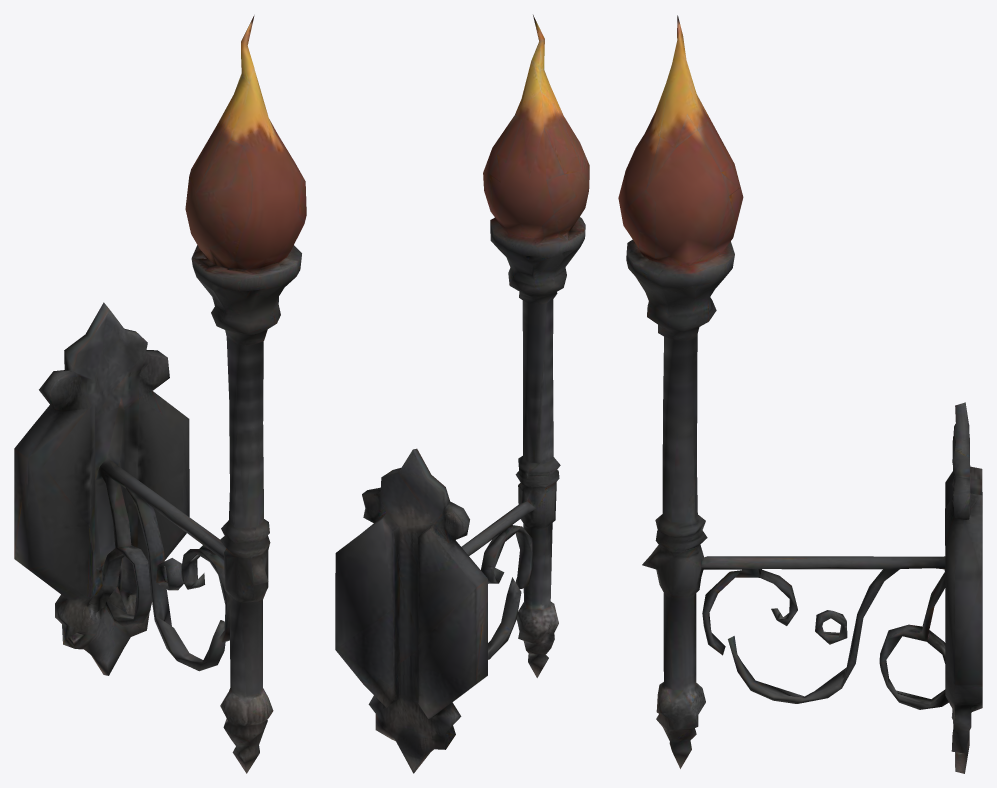
The model's file is torch.glb.
3 views of the same model, side by side, from view 1: azimuth 30°, elevation 25°; view 2: azimuth 150°, elevation 25°; view 3: azimuth 270°, elevation 25° (orthographic). The views are drawn at different scales.
Size of the model in its own units: 0.4428 by 2 by 0.8646.
1 material, 1 textured.
